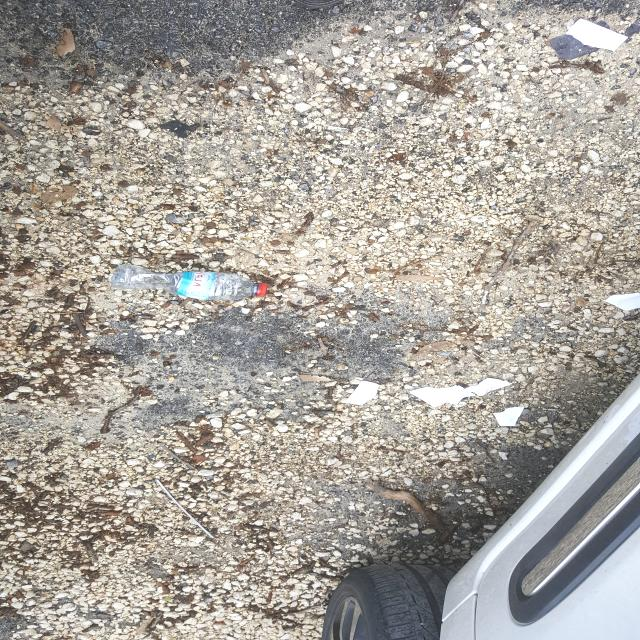Clear plastic bottle: (112, 264, 268, 300)
Normal paper: (409, 378, 512, 407), (344, 381, 380, 406), (605, 293, 640, 311), (493, 407, 524, 427)
Plastic bottle cap: (259, 283, 267, 297)
Plastic straw: (155, 479, 214, 539)
Unlabeled litter: (564, 18, 628, 52)
